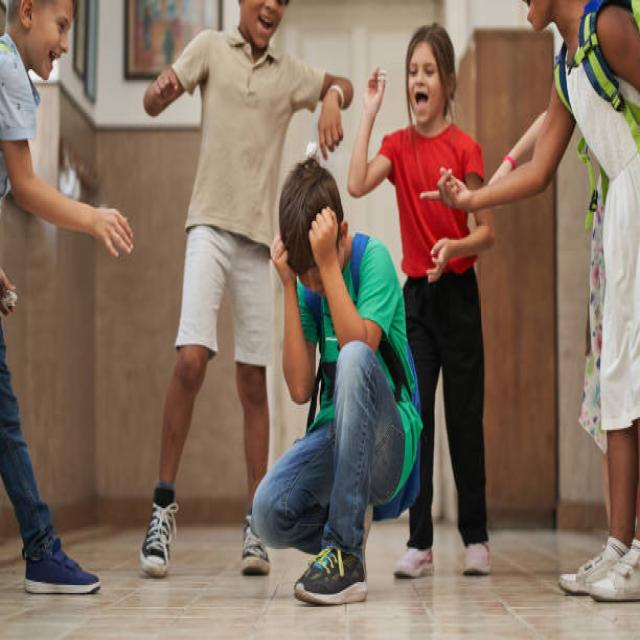fight: (266, 24, 488, 611)
